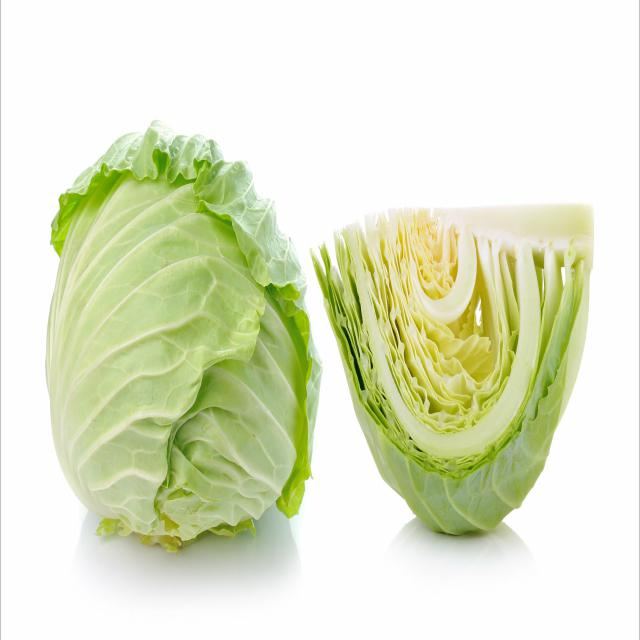cabbage: (42, 121, 326, 560), (308, 193, 599, 546)
